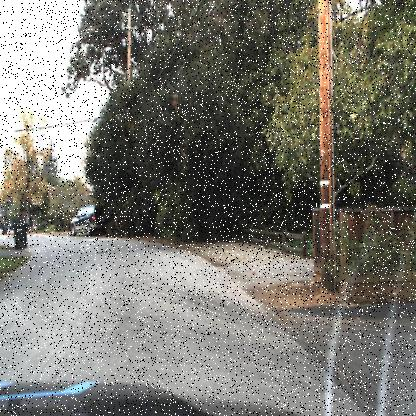car: (65, 201, 109, 241)
